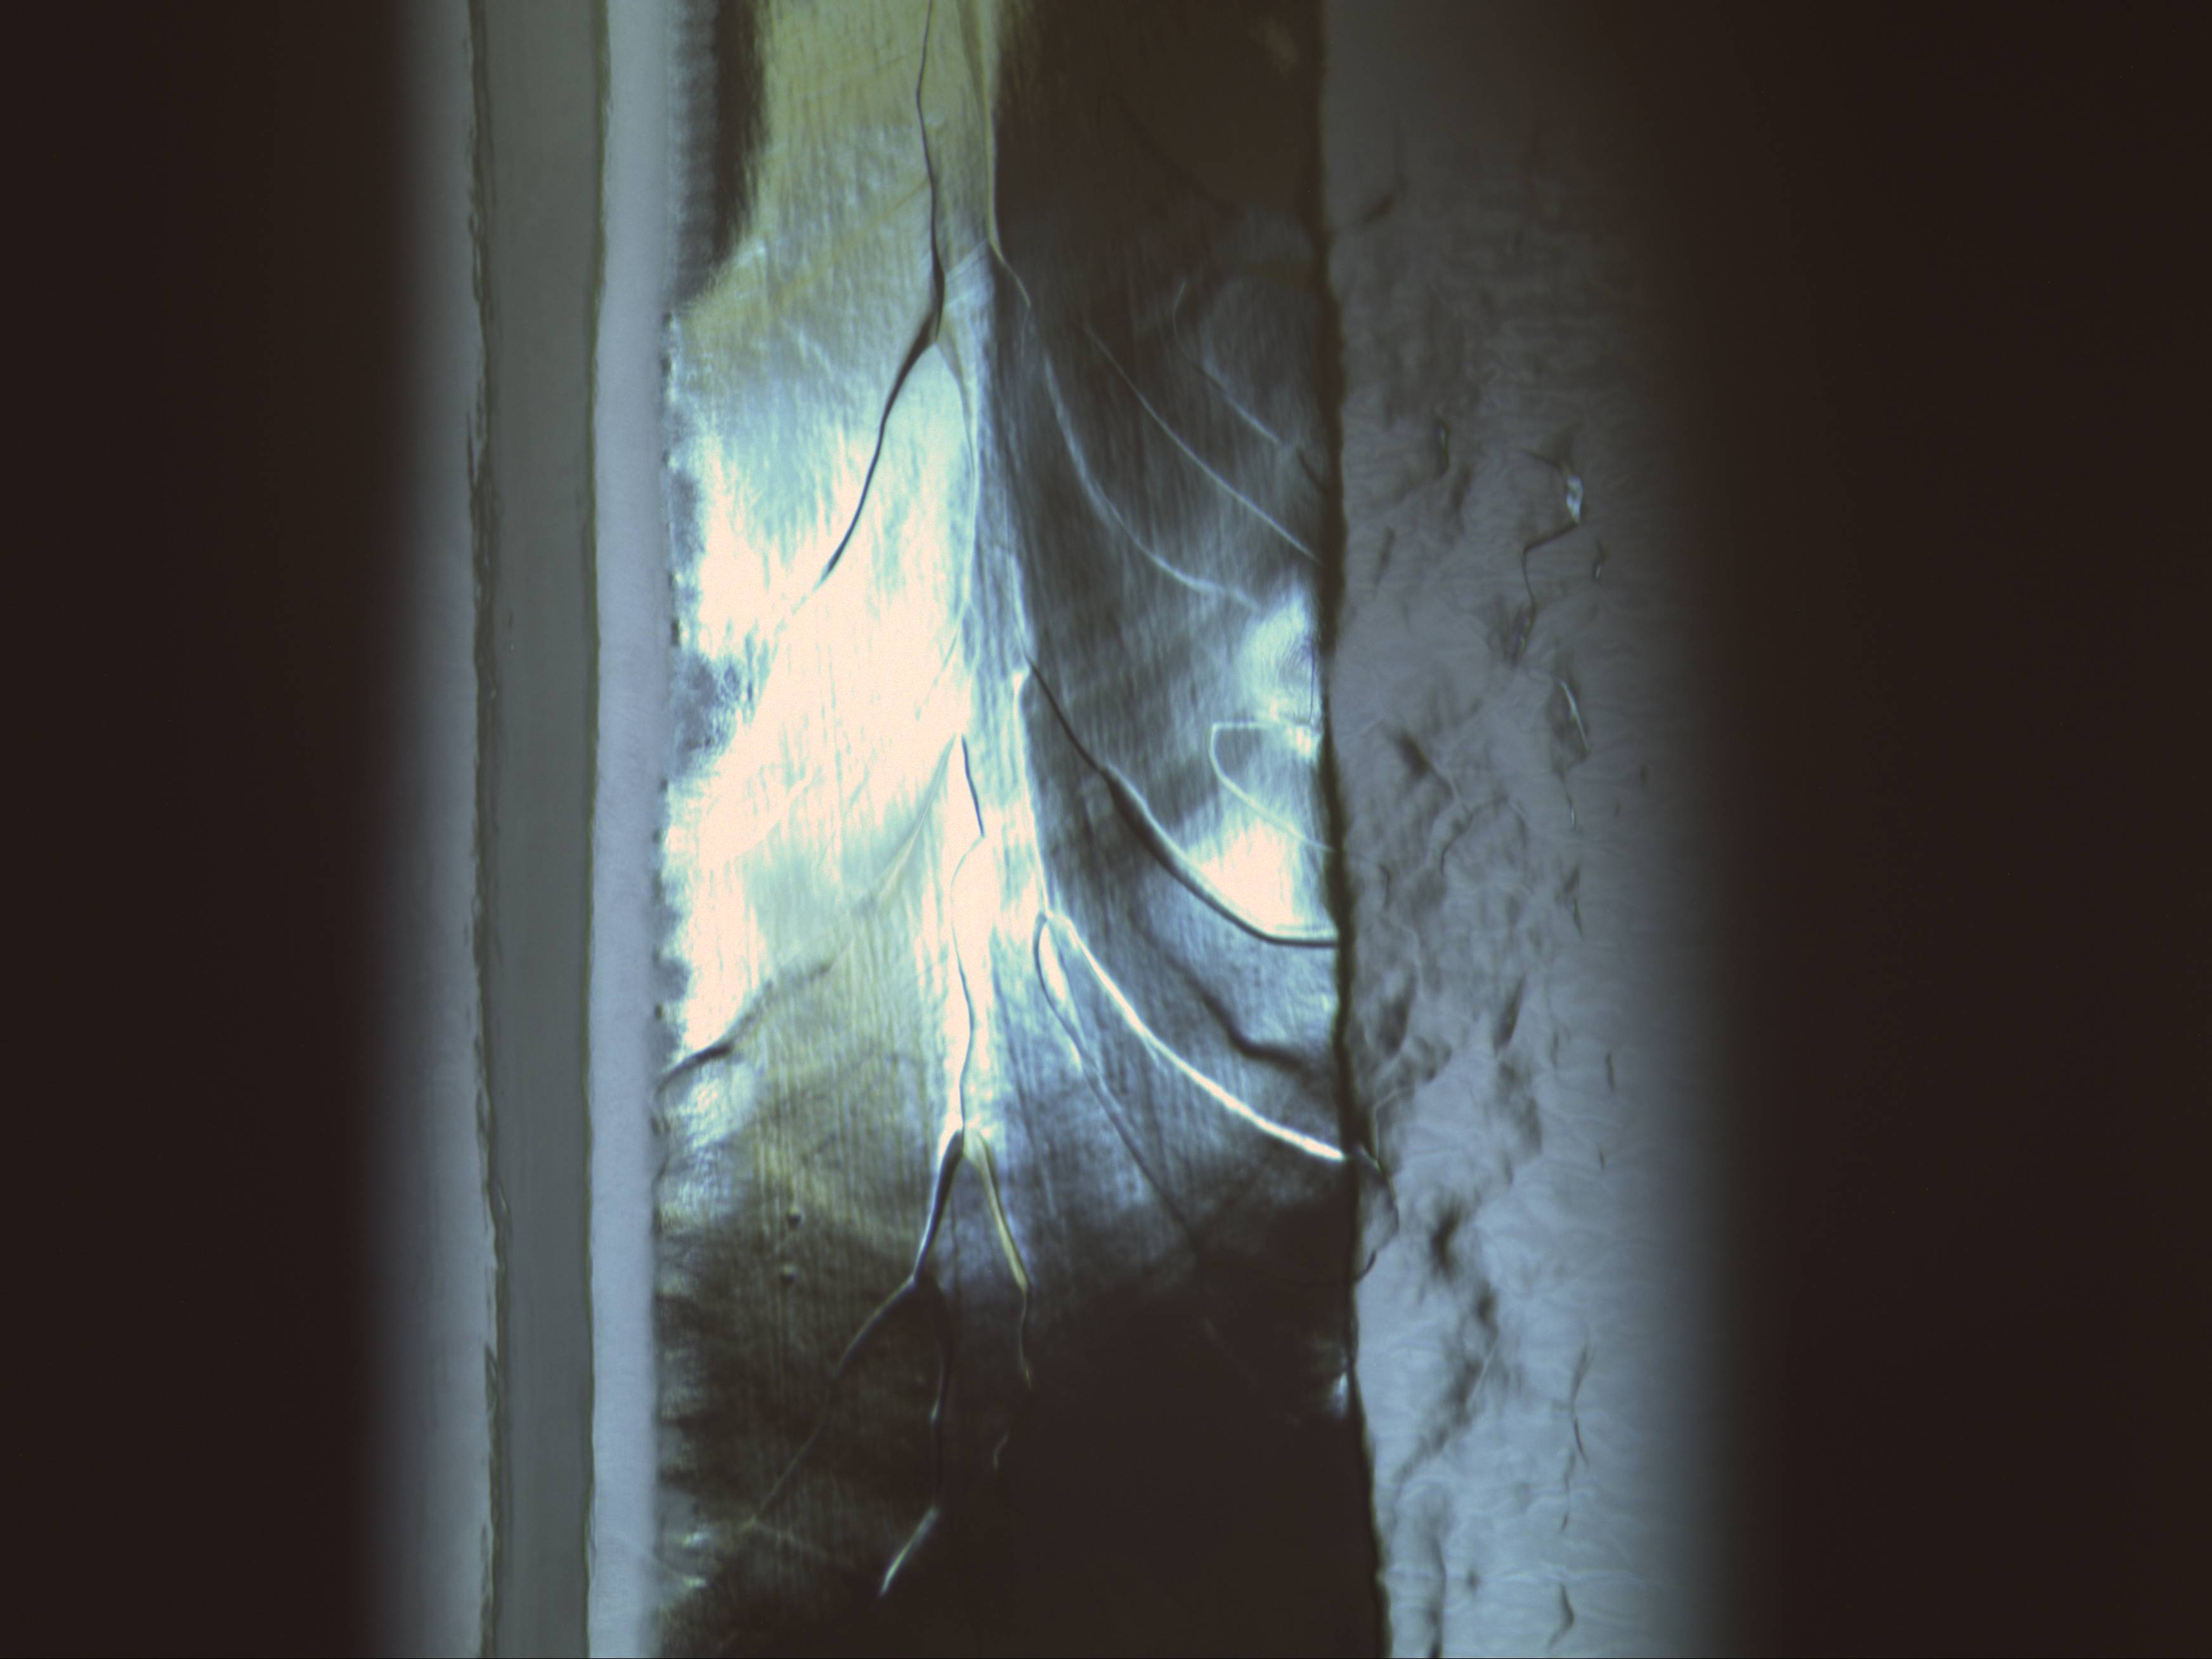defect: (775, 1197, 808, 1227), (775, 1258, 798, 1281)
